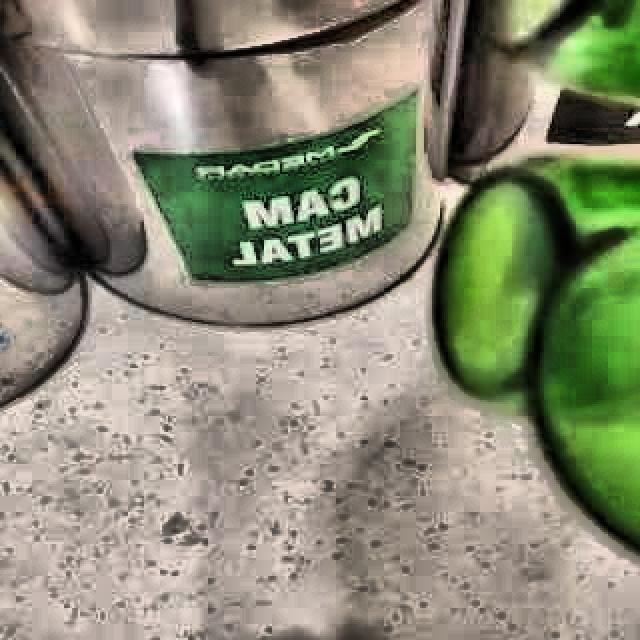glass: (435, 158, 640, 549)
